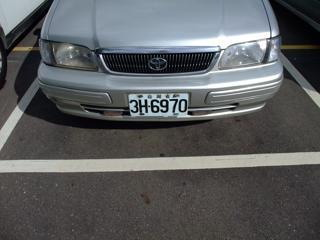plate: (126, 91, 191, 119)
